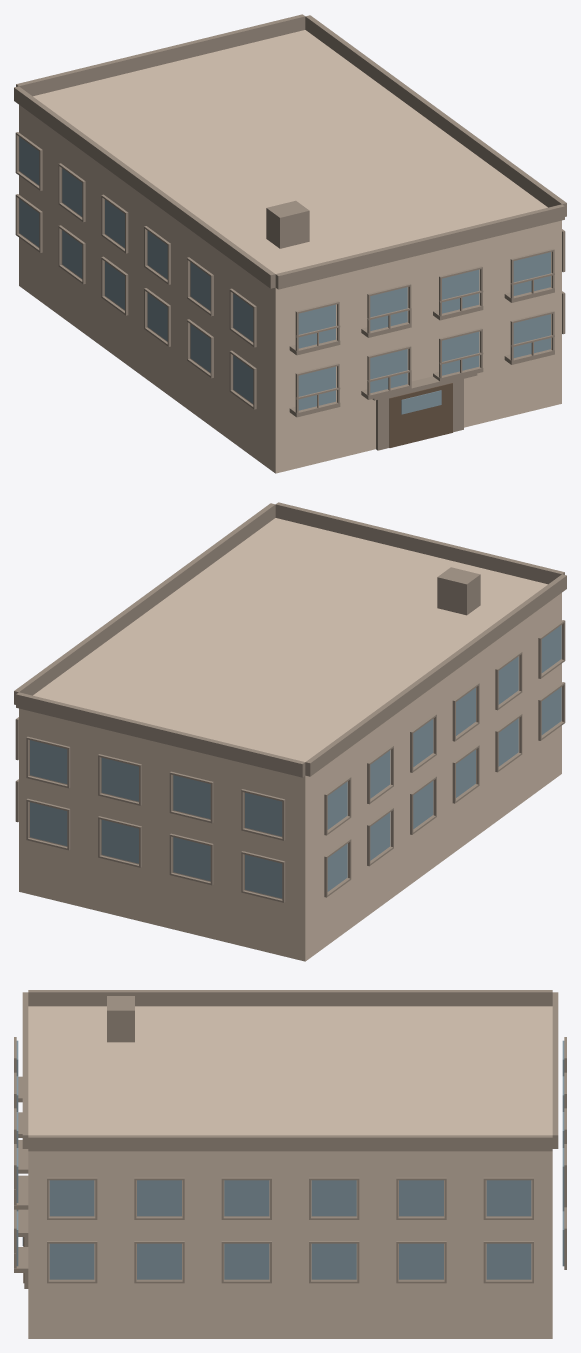
Rendered from residential_2x3_a.glb.
3 views of the same model, one above another, from view 1: azimuth 30°, elevation 25°; view 2: azimuth 150°, elevation 25°; view 3: azimuth 270°, elevation 25° (orthographic). The views are drawn at different scales.
Visible parts, largest first — view 1: residential_2x3_a_0; view 2: residential_2x3_a_0; view 3: residential_2x3_a_0.
Boxes of the visible parts, x1=… form: residential_2x3_a_0: x1=14, y1=14, x2=566, y2=473; residential_2x3_a_0: x1=14, y1=502, x2=566, y2=961; residential_2x3_a_0: x1=14, y1=990, x2=566, y2=1338.
Size of the model in its own units: 15.74 by 10.5 by 23.74.
